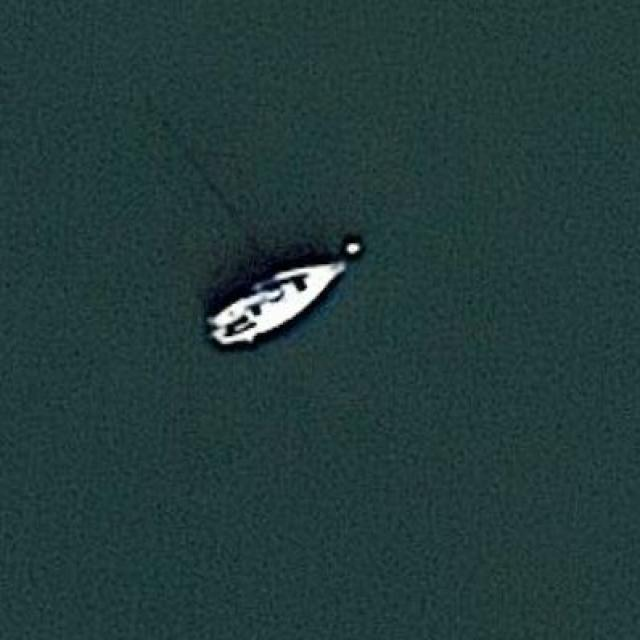ship: (201, 255, 357, 348)
